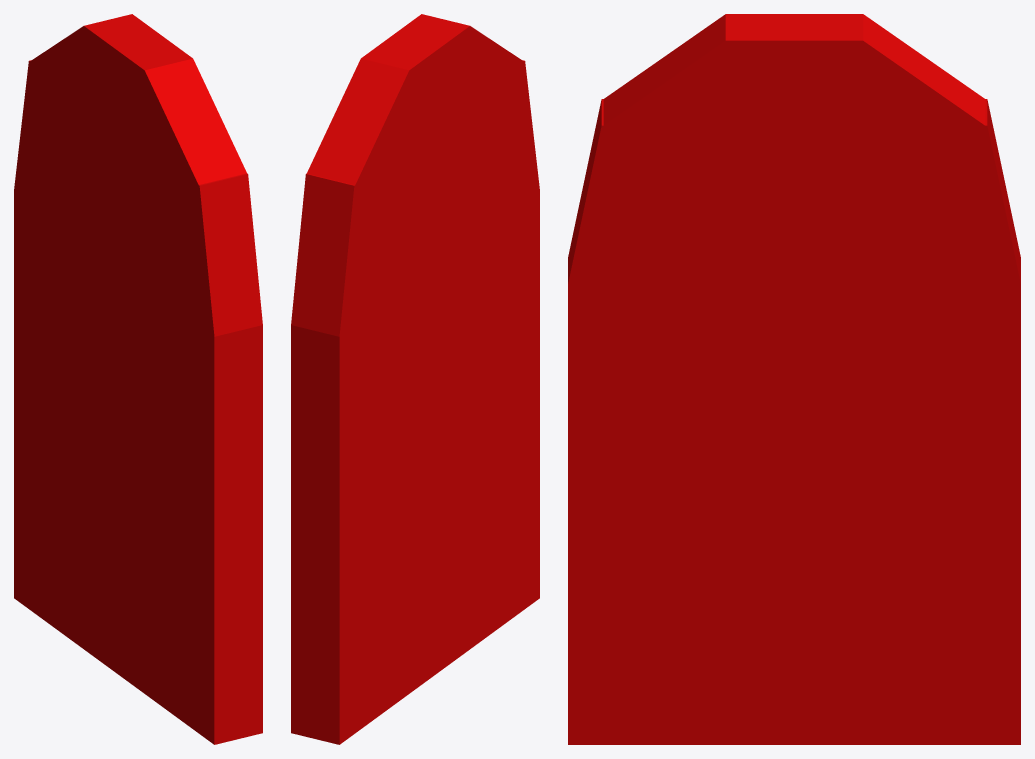
Rendered from Door03Collider.fbx.
3 renders of one model, left to right at view 1: azimuth 30°, elevation 25°; view 2: azimuth 150°, elevation 25°; view 3: azimuth 270°, elevation 25°, orthographic. The views are drawn at different scales.
Visible parts, largest first — view 1: Door03Collision; view 2: Door03Collision; view 3: Door03Collision.
Boxes of the visible parts, x1,y1,x2,y2 form: Door03Collision: [14, 14, 262, 744]; Door03Collision: [291, 14, 539, 744]; Door03Collision: [568, 14, 1020, 744].
Bounding box in the file's own units: 15.95 × 196 × 114.
